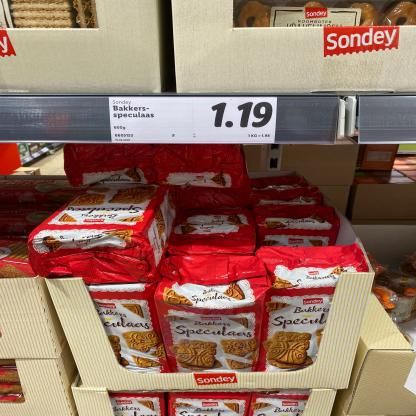prtg: (110, 98, 278, 144)
